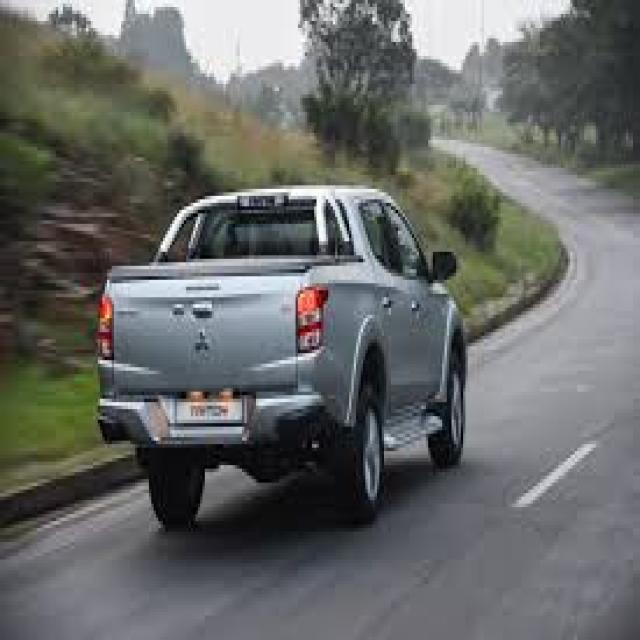Pickup Trucks: (98, 185, 468, 535)
